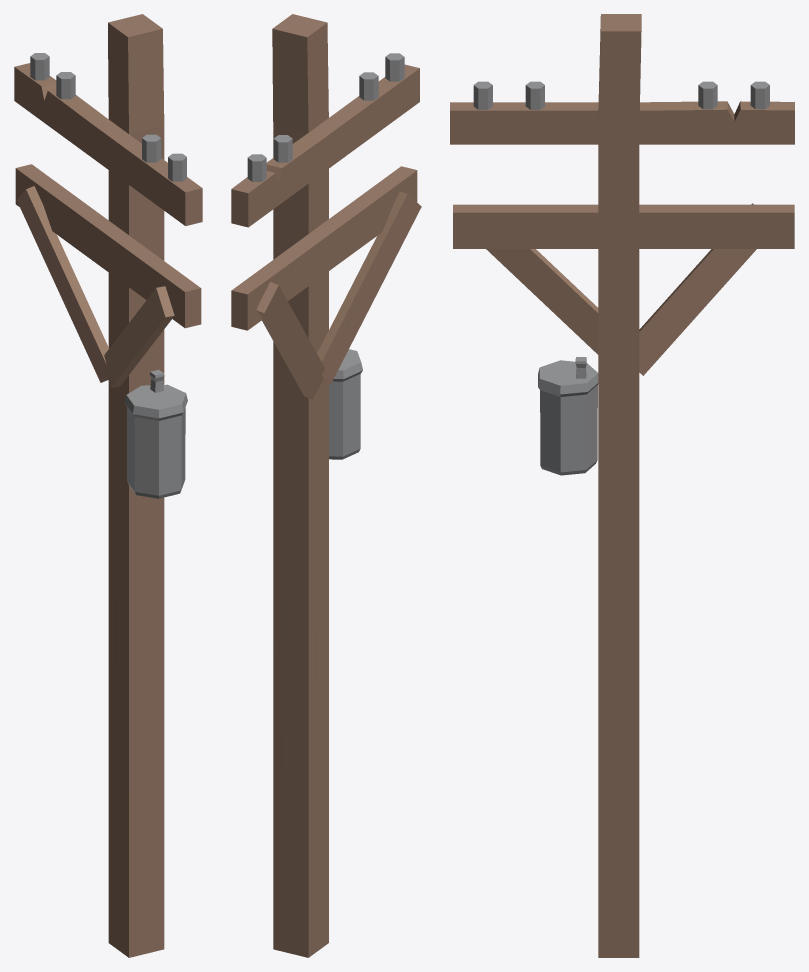
File: post.glb
3 renders of one model, left to right at view 1: azimuth 30°, elevation 25°; view 2: azimuth 150°, elevation 25°; view 3: azimuth 270°, elevation 25°, orthographic.
Visible parts, largest first — view 1: Cube.002; view 2: Cube.002; view 3: Cube.002.
Part boxes in pixels (<box>): Cube.002: <box>14,14,202,957</box>; Cube.002: <box>231,14,421,957</box>; Cube.002: <box>450,14,794,957</box>.
Bounding box in the file's own units: 5.1 × 65.79 × 22.19.
2 materials, 1 textured.
